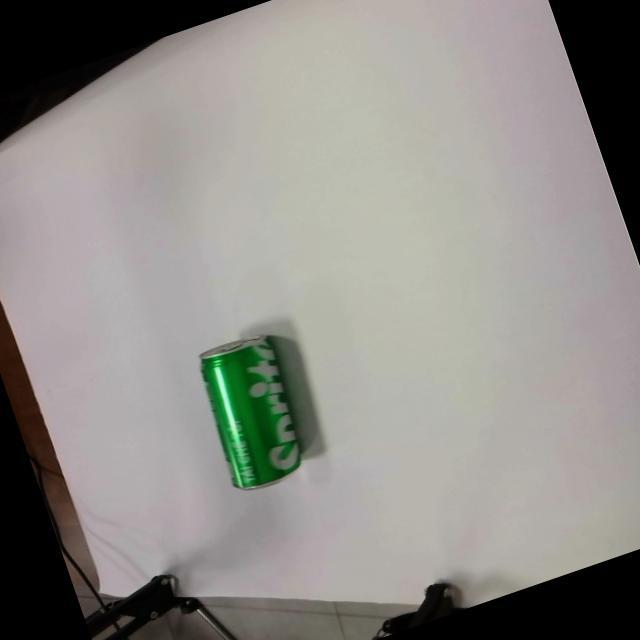debris: (185, 318, 338, 497)
